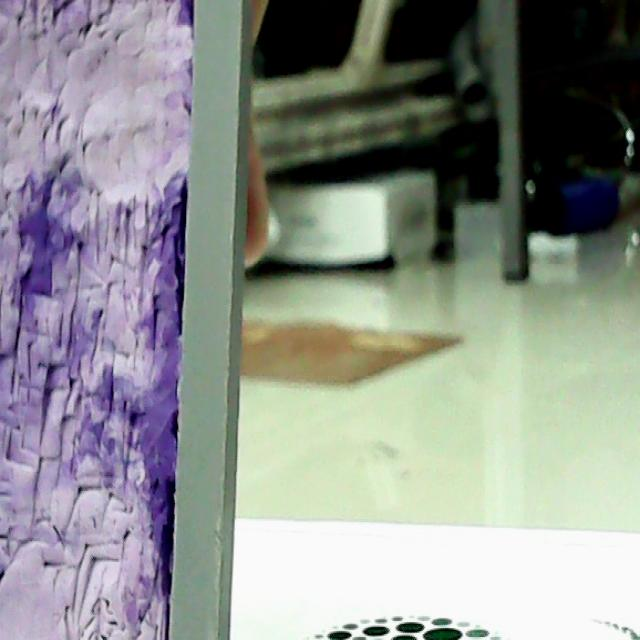block: (0, 0, 252, 640)
